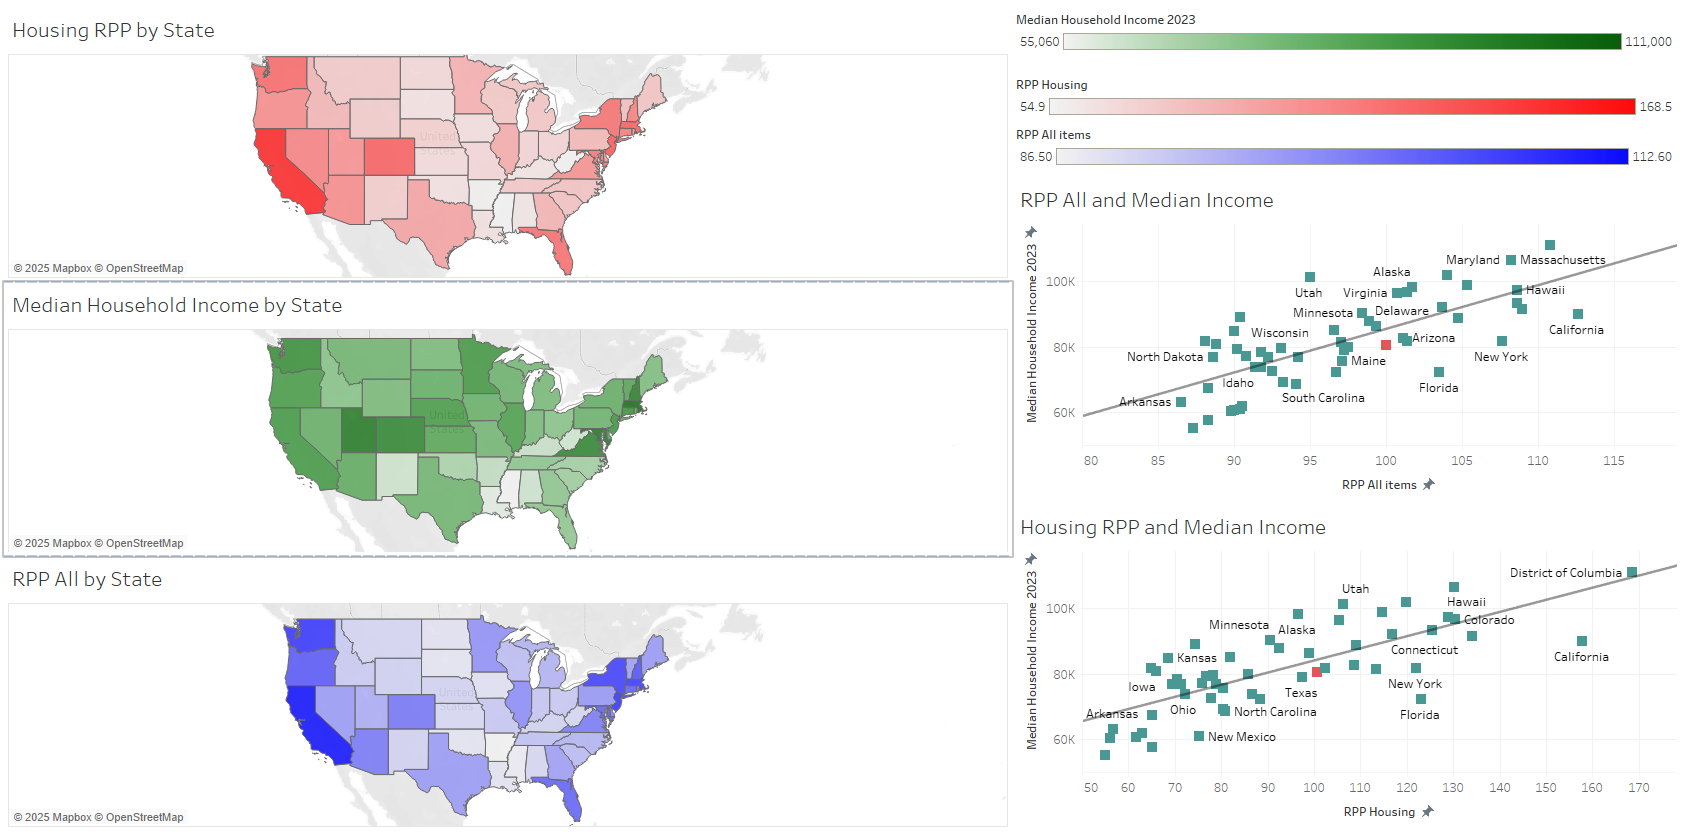

This screenshot's page, from the dashboard's own definition file:
{"tool":"tableau","page":{"name":"By State Housing","canvas":[1000,1000],"units":"permille","ordinal":0},"visuals":[{"type":"worksheet","title":"Housing RPP by State","mark":"Multipolygon","box":[9.4,18.7,589.8,320.9]},{"type":"legend","title":"Median Household Income by State","param":"[federated.0dzr7111ldopm517e8l340tqylag].[sum:Median Household Income 2023:qk]","box":[599.2,18.7,391.5,75.9]},{"type":"legend","title":"Housing RPP by State","param":"[federated.0dzr7111ldopm517e8l340tqylag].[sum:RPP Housing:qk]","box":[599.2,94.6,391.5,58.4]},{"type":"legend","title":"RPP All by State","param":"[federated.0dzr7111ldopm517e8l340tqylag].[sum:RPP All items:qk]","box":[599.2,153.1,391.5,64.3]},{"type":"worksheet","title":"RPP All and Median Income","mark":"Square","rows":["Median Household Income 2023"],"cols":["RPP All items"],"box":[599.2,217.3,391.5,382]},{"type":"worksheet","title":"Median Household Income by State","mark":"Multipolygon","box":[9.4,339.6,589.8,320.9]},{"type":"worksheet","title":"Housing RPP and Median Income","mark":"Square","rows":["Median Household Income 2023"],"cols":["RPP Housing"],"box":[599.2,599.3,391.5,382]},{"type":"worksheet","title":"RPP All by State","mark":"Automatic","box":[9.4,660.4,589.8,320.9]}]}

Visuals, with their boxes on the dashboard's canvas, which has no fixed pixel size, in thousandths of its width and height (x1, y1, x2, y2). These are canvas units, not pixel positions in the 1684x838 screenshot, which may show the page scaled, cropped or inside an application window:
"Housing RPP by State" worksheet (Multipolygon marks): l=9, t=19, r=599, b=340
"Median Household Income by State" legend: l=599, t=19, r=991, b=95
"Housing RPP by State" legend: l=599, t=95, r=991, b=153
"RPP All by State" legend: l=599, t=153, r=991, b=217
"RPP All and Median Income" worksheet (Square marks): l=599, t=217, r=991, b=599
"Median Household Income by State" worksheet (Multipolygon marks): l=9, t=340, r=599, b=660
"Housing RPP and Median Income" worksheet (Square marks): l=599, t=599, r=991, b=981
"RPP All by State" worksheet: l=9, t=660, r=599, b=981
